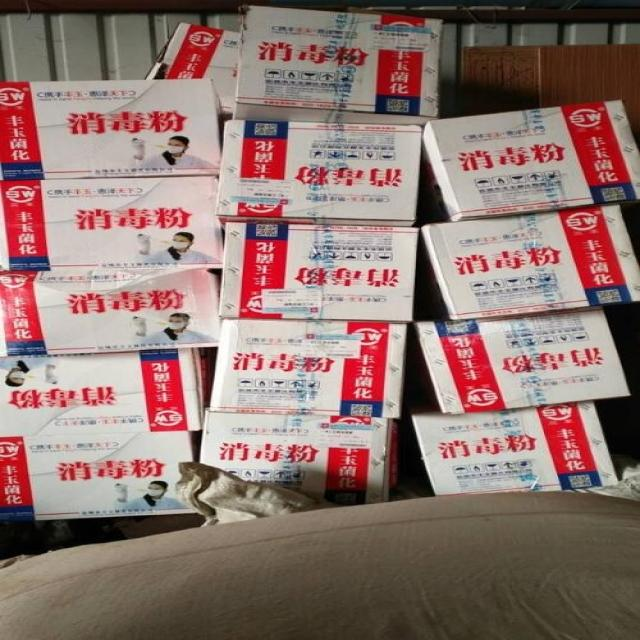box: (417, 100, 639, 223), (420, 205, 639, 322), (233, 7, 441, 126), (408, 311, 632, 415), (0, 79, 220, 181), (213, 121, 422, 228), (393, 401, 620, 498), (0, 177, 224, 272), (217, 223, 417, 323), (0, 270, 225, 357), (209, 322, 407, 418), (0, 348, 204, 437), (198, 413, 392, 506), (0, 432, 198, 523), (142, 23, 241, 114)
